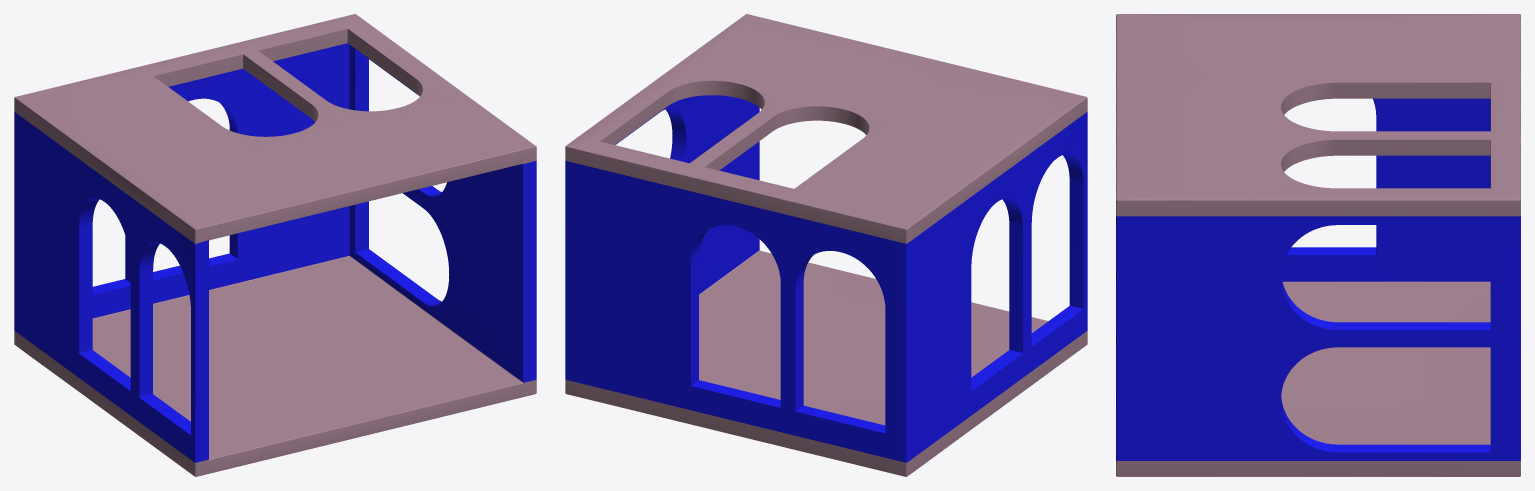
Rendered from MSH_Arches_Room.FBX.
3 renders of one model, left to right at view 1: azimuth 30°, elevation 25°; view 2: azimuth 150°, elevation 25°; view 3: azimuth 270°, elevation 25°, orthographic. The views are drawn at different scales.
Visible parts, largest first — view 1: Arches_Room_GEO; view 2: Arches_Room_GEO; view 3: Arches_Room_GEO.
Part boxes in pixels (<box>): Arches_Room_GEO: <box>14,14,536,476</box>; Arches_Room_GEO: <box>565,14,1087,476</box>; Arches_Room_GEO: <box>1116,14,1520,476</box>.
Size of the model in its own units: 490 by 340 by 450.
